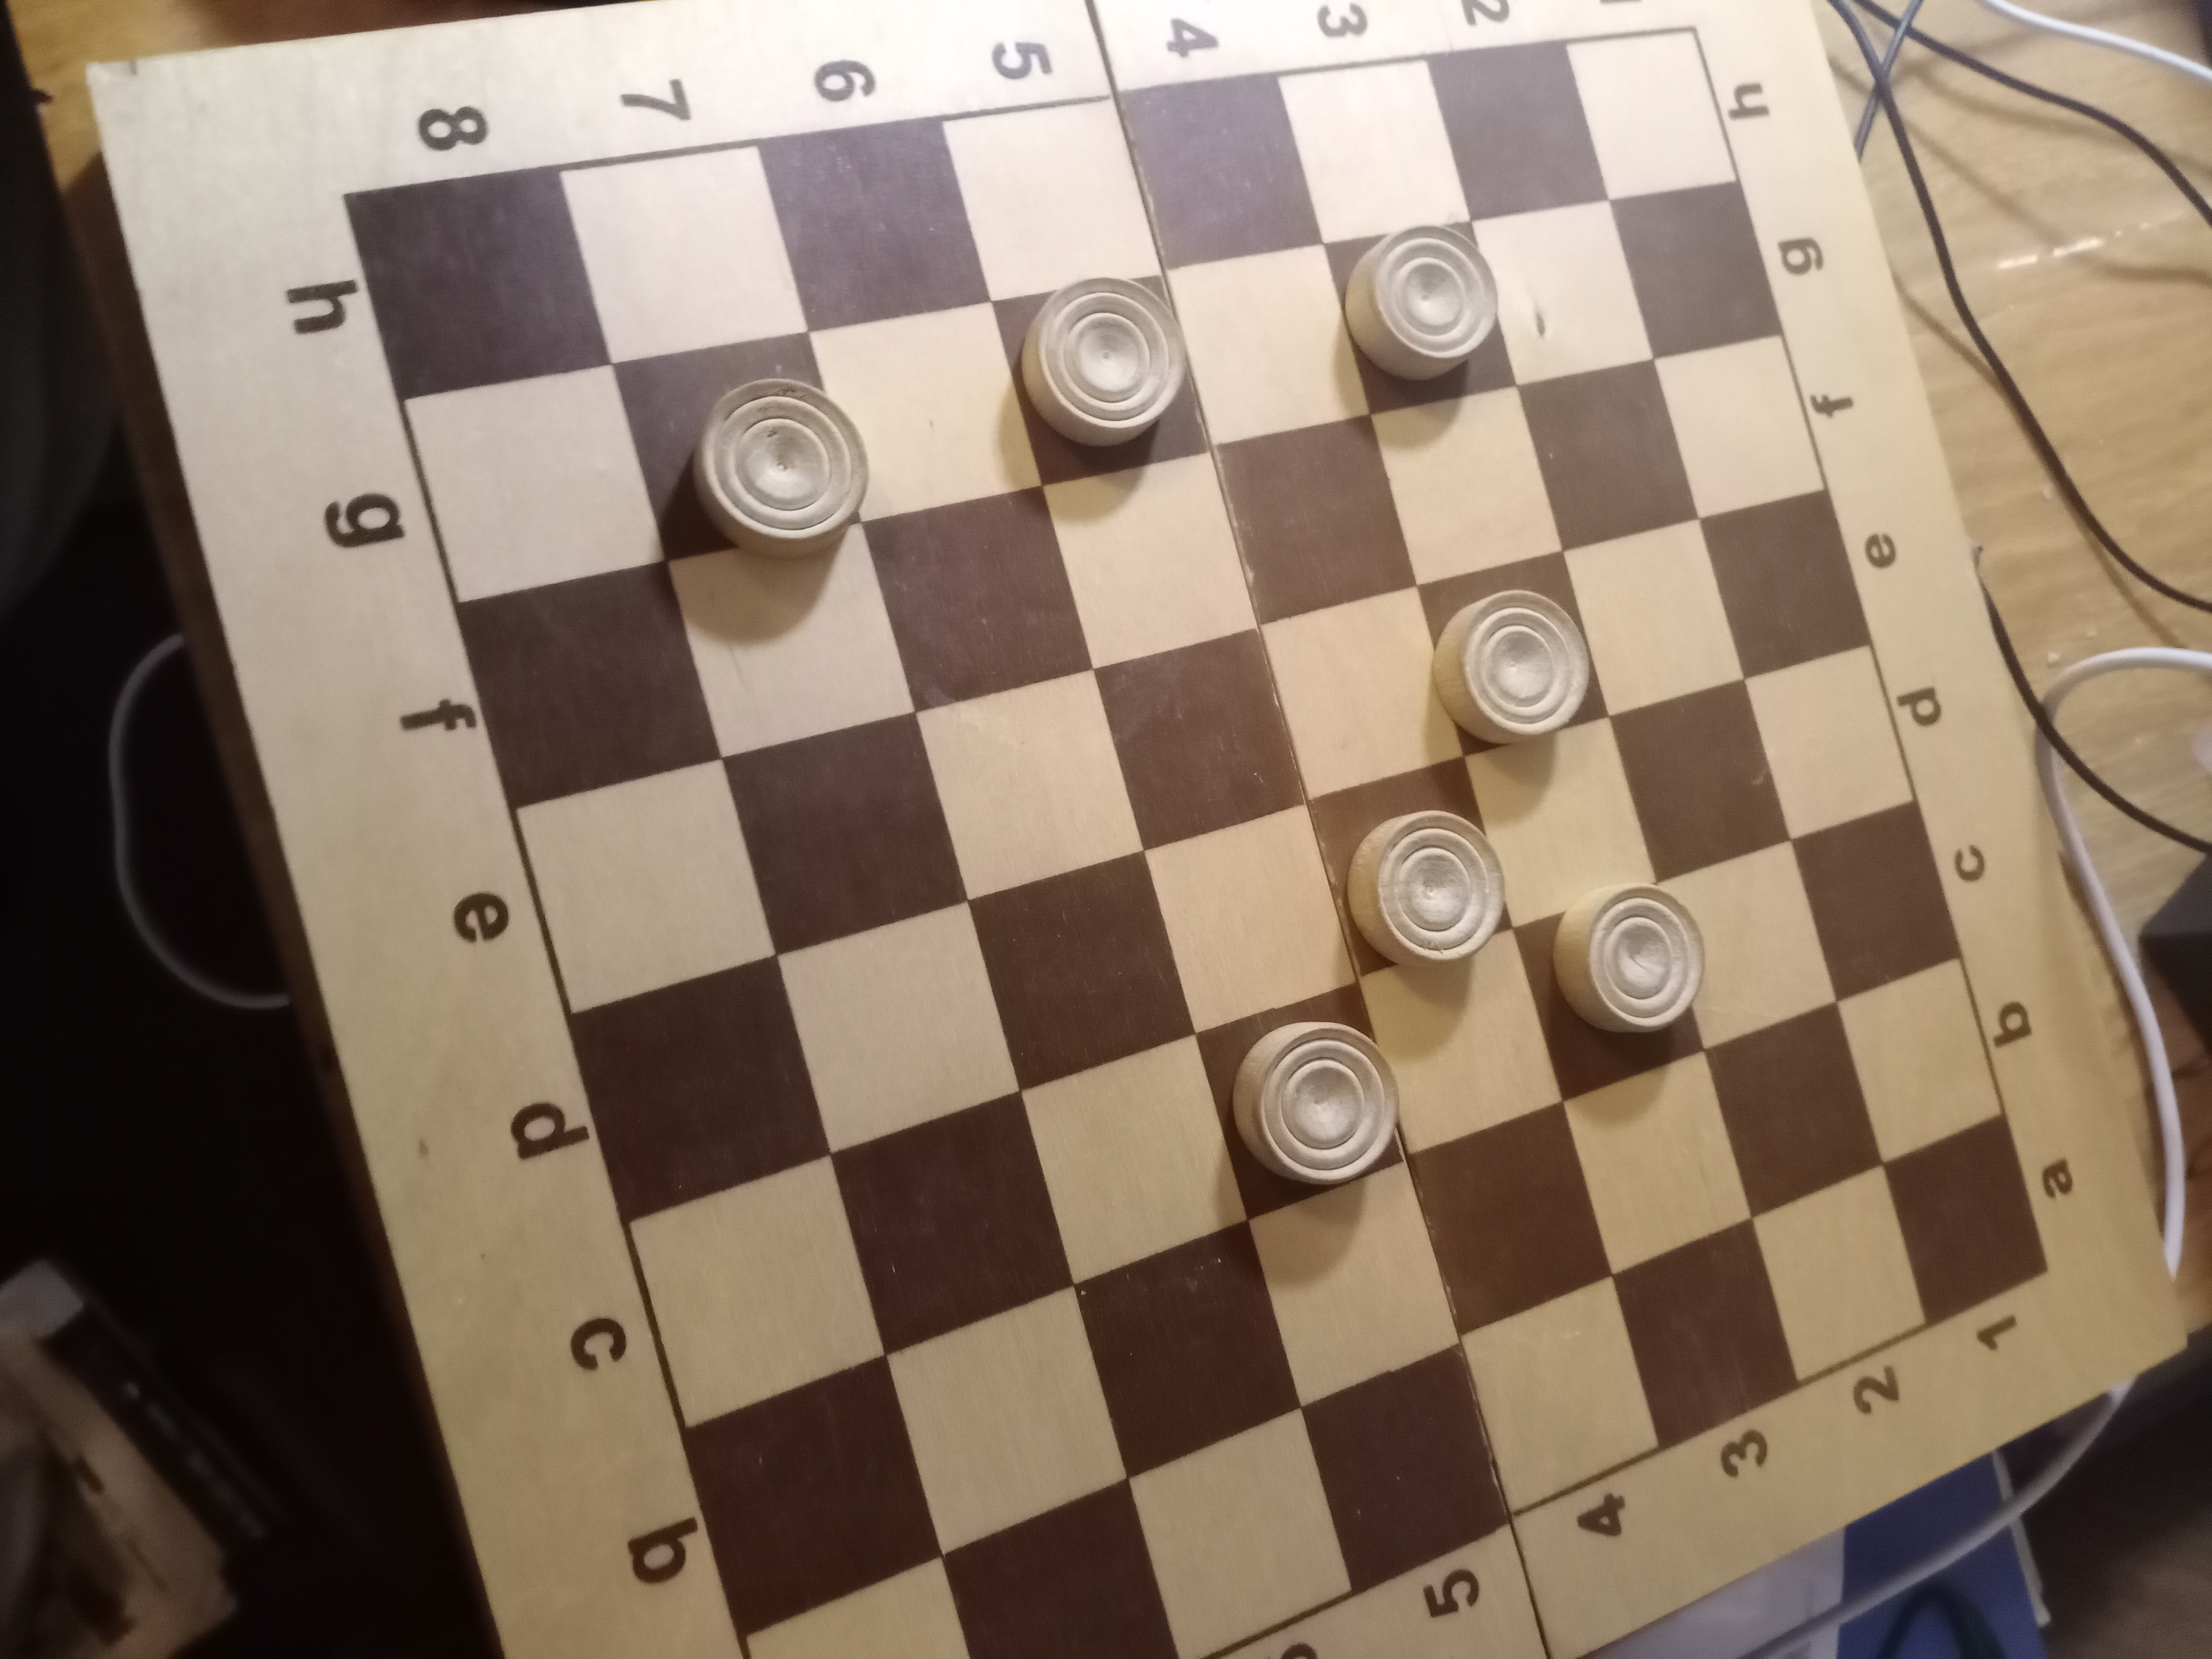White_Draught: (613, 331, 869, 559), (1195, 981, 1404, 1220), (993, 275, 1209, 486), (1306, 758, 1514, 978), (1514, 882, 1707, 1101), (1416, 551, 1609, 756), (1324, 221, 1517, 416)
